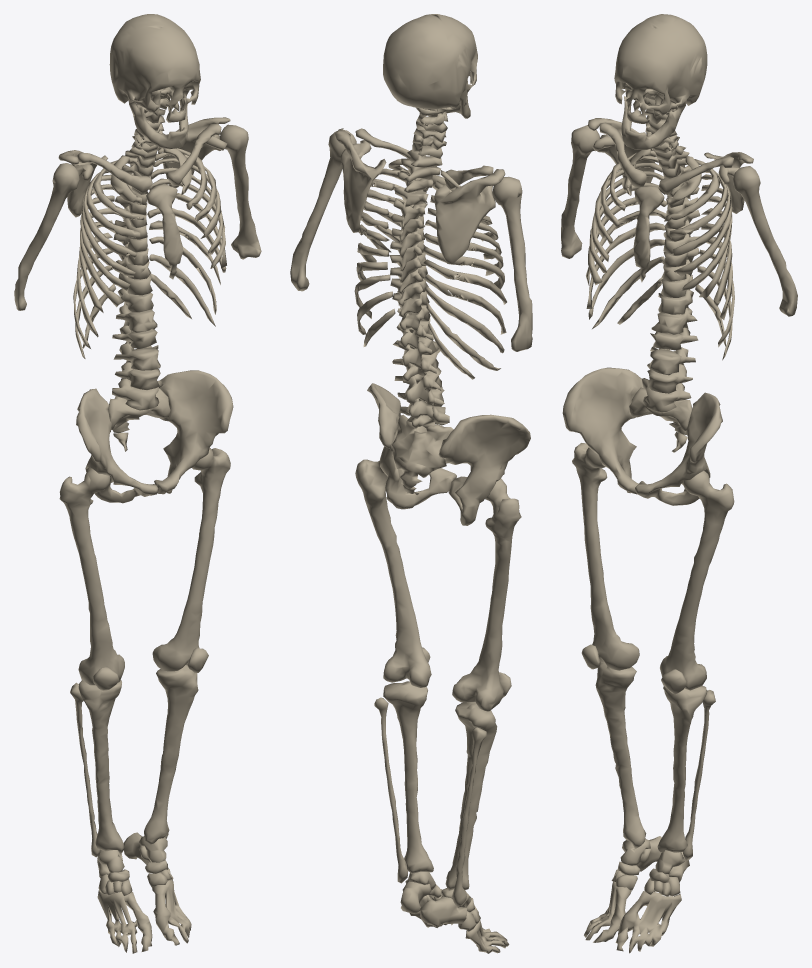
File: vhf_denver_ct_adult_female.skeletal.LOD4.glb
The picture shows the model from 3 angles, left to right: view 1: azimuth 30°, elevation 25°; view 2: azimuth 150°, elevation 25°; view 3: azimuth 330°, elevation 25°; orthographic projection. The views are drawn at different scales.
Visible parts, largest first — view 1: VHF_DENVER_CT.ADULT.FEMALE.SKELETAL.SKULL_CRANIUM_AND_MANDIB, VHF_DENVER_CT.ADULT.FEMALE.SKELETAL.HIP_BONE_OS_COXAE.L, VHF_DENVER_CT.ADULT.FEMALE.SKELETAL.FEMUR.R, VHF_DENVER_CT.ADULT.FEMALE.SKELETAL.FEMUR.L, VHF_DENVER_CT.ADULT.FEMALE.SKELETAL.TIBIA.L, VHF_DENVER_CT.ADULT.FEMALE.SKELETAL.METATARSALS_AND_PHALANGE (×2), VHF_DENVER_CT.ADULT.FEMALE.SKELETAL.HIP_BONE_OS_COXAE.R, VHF_DENVER_CT.ADULT.FEMALE.SKELETAL.TIBIA.R, VHF_DENVER_CT.ADULT.FEMALE.SKELETAL.HUMERUS.L, VHF_DENVER_CT.ADULT.FEMALE.SKELETAL.HUMERUS.R, VHF_DENVER_CT.ADULT.FEMALE.SKELETAL.STERNUM, VHF_DENVER_CT.ADULT.FEMALE.SKELETAL.VERTEBRA_L3 (+18 smaller); view 2: VHF_DENVER_CT.ADULT.FEMALE.SKELETAL.SKULL_CRANIUM_AND_MANDIB, VHF_DENVER_CT.ADULT.FEMALE.SKELETAL.HIP_BONE_OS_COXAE.R, VHF_DENVER_CT.ADULT.FEMALE.SKELETAL.FEMUR.L, VHF_DENVER_CT.ADULT.FEMALE.SKELETAL.FEMUR.R, VHF_DENVER_CT.ADULT.FEMALE.SKELETAL.SCAPULA.R, VHF_DENVER_CT.ADULT.FEMALE.SKELETAL.TIBIA.L, VHF_DENVER_CT.ADULT.FEMALE.SKELETAL.HIP_BONE_OS_COXAE.L, VHF_DENVER_CT.ADULT.FEMALE.SKELETAL.TIBIA.R, VHF_DENVER_CT.ADULT.FEMALE.SKELETAL.HUMERUS.R, VHF_DENVER_CT.ADULT.FEMALE.SKELETAL.SACRUM, VHF_DENVER_CT.ADULT.FEMALE.SKELETAL.SCAPULA.L, VHF_DENVER_CT.ADULT.FEMALE.SKELETAL.HUMERUS.L (+16 smaller); view 3: VHF_DENVER_CT.ADULT.FEMALE.SKELETAL.SKULL_CRANIUM_AND_MANDIB, VHF_DENVER_CT.ADULT.FEMALE.SKELETAL.HIP_BONE_OS_COXAE.R, VHF_DENVER_CT.ADULT.FEMALE.SKELETAL.FEMUR.L, VHF_DENVER_CT.ADULT.FEMALE.SKELETAL.FEMUR.R, VHF_DENVER_CT.ADULT.FEMALE.SKELETAL.TIBIA.R, VHF_DENVER_CT.ADULT.FEMALE.SKELETAL.METATARSALS_AND_PHALANGE (×2), VHF_DENVER_CT.ADULT.FEMALE.SKELETAL.HIP_BONE_OS_COXAE.L, VHF_DENVER_CT.ADULT.FEMALE.SKELETAL.TIBIA.L, VHF_DENVER_CT.ADULT.FEMALE.SKELETAL.HUMERUS.L, VHF_DENVER_CT.ADULT.FEMALE.SKELETAL.HUMERUS.R, VHF_DENVER_CT.ADULT.FEMALE.SKELETAL.VERTEBRA_L3, VHF_DENVER_CT.ADULT.FEMALE.SKELETAL.STERNUM (+20 smaller).
Boxes of the visible parts, <box> form: VHF_DENVER_CT.ADULT.FEMALE.SKELETAL.SKULL_CRANIUM_AND_MANDIB: <box>109,14,200,149</box>; VHF_DENVER_CT.ADULT.FEMALE.SKELETAL.HIP_BONE_OS_COXAE.L: <box>154,370,233,494</box>; VHF_DENVER_CT.ADULT.FEMALE.SKELETAL.FEMUR.R: <box>59,468,124,685</box>; VHF_DENVER_CT.ADULT.FEMALE.SKELETAL.FEMUR.L: <box>152,448,230,671</box>; VHF_DENVER_CT.ADULT.FEMALE.SKELETAL.TIBIA.L: <box>144,665,198,844</box>; VHF_DENVER_CT.ADULT.FEMALE.SKELETAL.METATARSALS_AND_PHALANGE (×2): <box>97,880,191,953</box>; VHF_DENVER_CT.ADULT.FEMALE.SKELETAL.HIP_BONE_OS_COXAE.R: <box>76,388,158,503</box>; VHF_DENVER_CT.ADULT.FEMALE.SKELETAL.TIBIA.R: <box>78,680,124,854</box>; VHF_DENVER_CT.ADULT.FEMALE.SKELETAL.HUMERUS.L: <box>219,124,261,259</box>; VHF_DENVER_CT.ADULT.FEMALE.SKELETAL.HUMERUS.R: <box>14,163,79,310</box>; VHF_DENVER_CT.ADULT.FEMALE.SKELETAL.STERNUM: <box>146,183,182,279</box>; VHF_DENVER_CT.ADULT.FEMALE.SKELETAL.VERTEBRA_L3: <box>112,325,160,370</box>; VHF_DENVER_CT.ADULT.FEMALE.SKELETAL.SKULL_CRANIUM_AND_MANDIB: <box>383,14,477,118</box>; VHF_DENVER_CT.ADULT.FEMALE.SKELETAL.HIP_BONE_OS_COXAE.R: <box>438,414,530,525</box>; VHF_DENVER_CT.ADULT.FEMALE.SKELETAL.FEMUR.L: <box>355,459,431,687</box>; VHF_DENVER_CT.ADULT.FEMALE.SKELETAL.FEMUR.R: <box>452,478,521,711</box>; VHF_DENVER_CT.ADULT.FEMALE.SKELETAL.SCAPULA.R: <box>434,169,505,264</box>; VHF_DENVER_CT.ADULT.FEMALE.SKELETAL.TIBIA.L: <box>383,681,433,873</box>; VHF_DENVER_CT.ADULT.FEMALE.SKELETAL.HIP_BONE_OS_COXAE.L: <box>367,383,456,509</box>; VHF_DENVER_CT.ADULT.FEMALE.SKELETAL.TIBIA.R: <box>445,702,497,890</box>; VHF_DENVER_CT.ADULT.FEMALE.SKELETAL.HUMERUS.R: <box>492,176,532,351</box>; VHF_DENVER_CT.ADULT.FEMALE.SKELETAL.SACRUM: <box>391,414,453,488</box>; VHF_DENVER_CT.ADULT.FEMALE.SKELETAL.SCAPULA.L: <box>335,128,386,232</box>; VHF_DENVER_CT.ADULT.FEMALE.SKELETAL.HUMERUS.L: <box>290,130,356,291</box>; VHF_DENVER_CT.ADULT.FEMALE.SKELETAL.SKULL_CRANIUM_AND_MANDIB: <box>614,14,707,149</box>; VHF_DENVER_CT.ADULT.FEMALE.SKELETAL.HIP_BONE_OS_COXAE.R: <box>562,367,643,494</box>; VHF_DENVER_CT.ADULT.FEMALE.SKELETAL.FEMUR.L: <box>660,470,734,690</box>; VHF_DENVER_CT.ADULT.FEMALE.SKELETAL.FEMUR.R: <box>572,443,639,670</box>; VHF_DENVER_CT.ADULT.FEMALE.SKELETAL.TIBIA.R: <box>595,662,646,849</box>; VHF_DENVER_CT.ADULT.FEMALE.SKELETAL.METATARSALS_AND_PHALANGE (×2): <box>584,881,681,953</box>; VHF_DENVER_CT.ADULT.FEMALE.SKELETAL.HIP_BONE_OS_COXAE.L: <box>635,392,722,505</box>; VHF_DENVER_CT.ADULT.FEMALE.SKELETAL.TIBIA.L: <box>657,686,707,852</box>; VHF_DENVER_CT.ADULT.FEMALE.SKELETAL.HUMERUS.L: <box>733,166,797,316</box>; VHF_DENVER_CT.ADULT.FEMALE.SKELETAL.HUMERUS.R: <box>561,125,599,258</box>; VHF_DENVER_CT.ADULT.FEMALE.SKELETAL.VERTEBRA_L3: <box>649,327,698,375</box>; VHF_DENVER_CT.ADULT.FEMALE.SKELETAL.STERNUM: <box>633,185,664,282</box>.
Size of the model in its own units: 0.466 by 1.72 by 0.2192.
